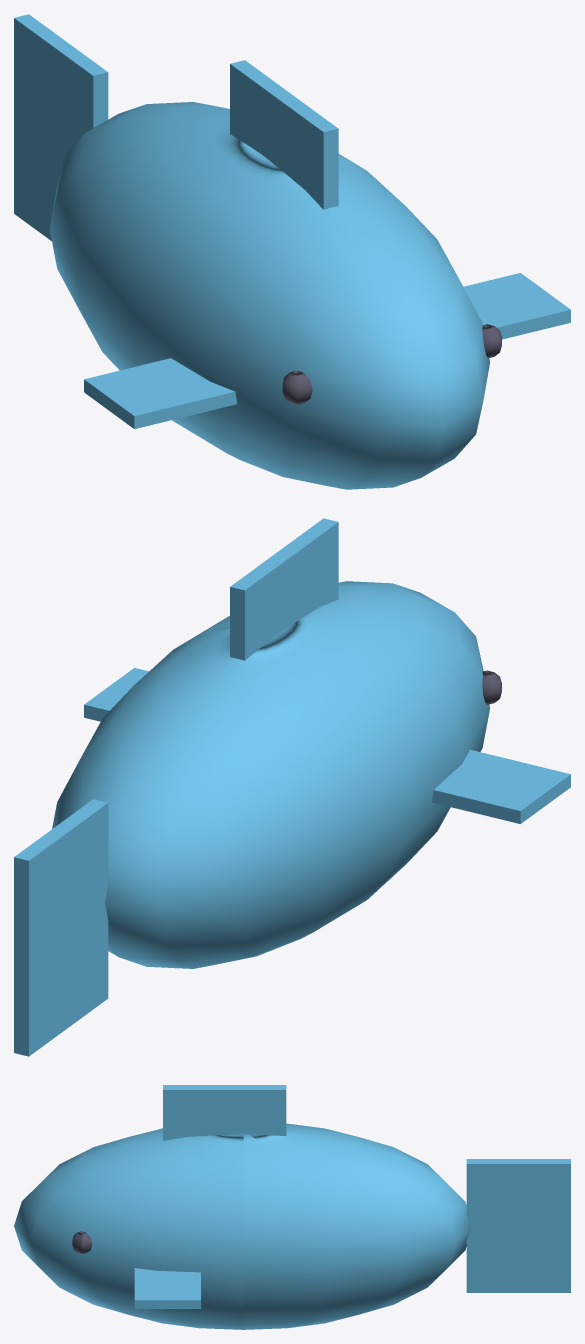
The picture shows the model from 3 angles, top to bottom: view 1: azimuth 30°, elevation 25°; view 2: azimuth 150°, elevation 25°; view 3: azimuth 270°, elevation 25°; orthographic projection. The views are drawn at different scales.
Visible parts, largest first — view 1: Generated3DMesh; view 2: Generated3DMesh; view 3: Generated3DMesh.
Boxes of the visible parts, box(x1,y1,x2,y2) form: Generated3DMesh: box(14, 14, 570, 489); Generated3DMesh: box(14, 518, 570, 1056); Generated3DMesh: box(14, 1085, 570, 1329).
Bounding box in the file's own units: 1.75 × 1.36 × 2.94.
